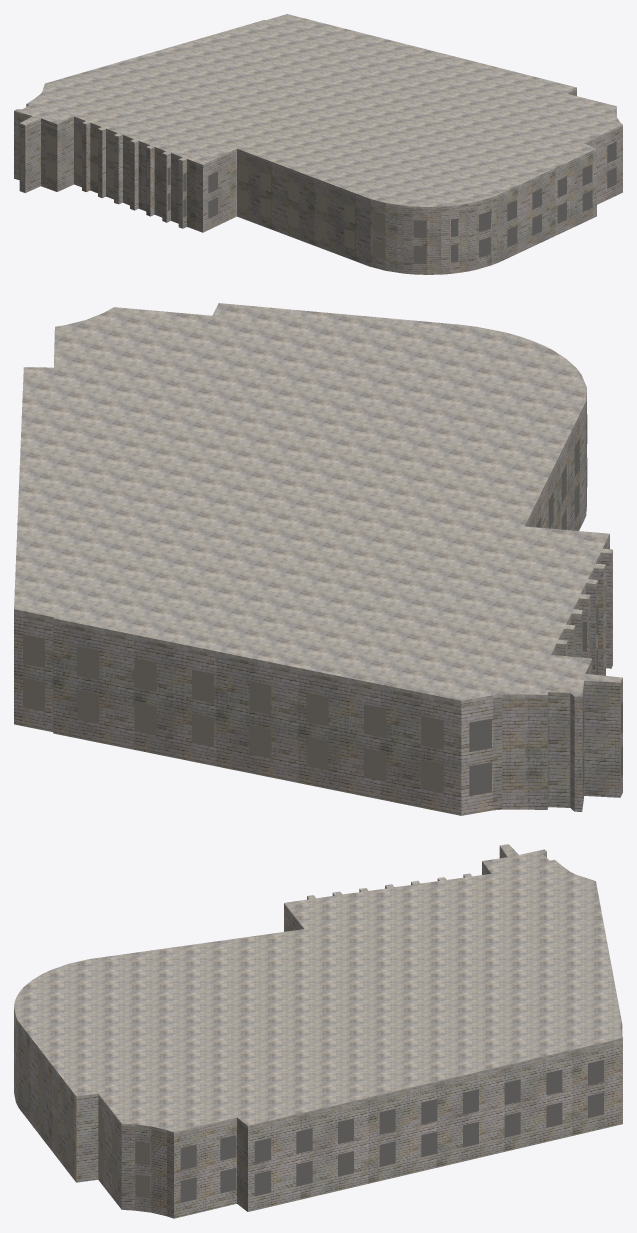
Rendered from musee-d-art-moderne-de-paris.glb.
The picture shows the model from 3 angles, top to bottom: view 1: azimuth 30°, elevation 25°; view 2: azimuth 150°, elevation 25°; view 3: azimuth 270°, elevation 25°; orthographic projection. The views are drawn at different scales.
Visible parts, largest first — view 1: trim, stone, window; view 2: trim, stone, window; view 3: trim, stone, window.
Boxes of the visible parts, bbox=[...] form: trim: bbox=[14, 14, 622, 212]; stone: bbox=[14, 89, 622, 274]; window: bbox=[19, 126, 616, 263]; trim: bbox=[14, 303, 622, 709]; stone: bbox=[14, 395, 622, 815]; window: bbox=[23, 414, 622, 795]; trim: bbox=[14, 844, 622, 1137]; stone: bbox=[14, 848, 622, 1218]; window: bbox=[14, 925, 603, 1202].
Bounding box in the file's own units: 100 × 14 × 89.63.
Materials: 3 (3 with a texture image).
